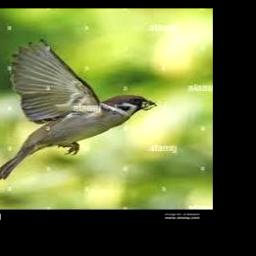Sparrow: (0, 39, 156, 179)
